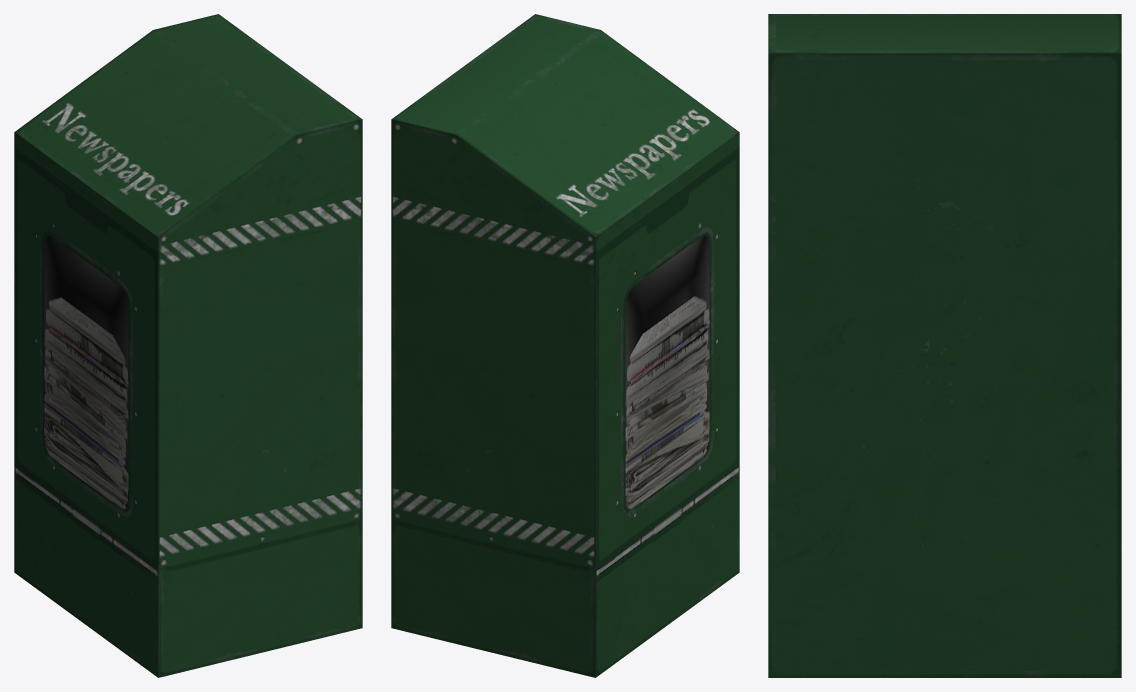
File: MB_Box_Newspaper.fbx
The picture shows the model from 3 angles, left to right: view 1: azimuth 30°, elevation 25°; view 2: azimuth 150°, elevation 25°; view 3: azimuth 270°, elevation 25°; orthographic projection. The views are drawn at different scales.
Visible parts, largest first — view 1: MB_Box_Newspaper; view 2: MB_Box_Newspaper; view 3: MB_Box_Newspaper.
Part boxes in pixels (x1,y1,x2,y2): MB_Box_Newspaper: [14, 14, 362, 677]; MB_Box_Newspaper: [391, 14, 739, 677]; MB_Box_Newspaper: [768, 14, 1121, 677].
Bounding box in the file's own units: 43.95 × 105 × 53.65.
